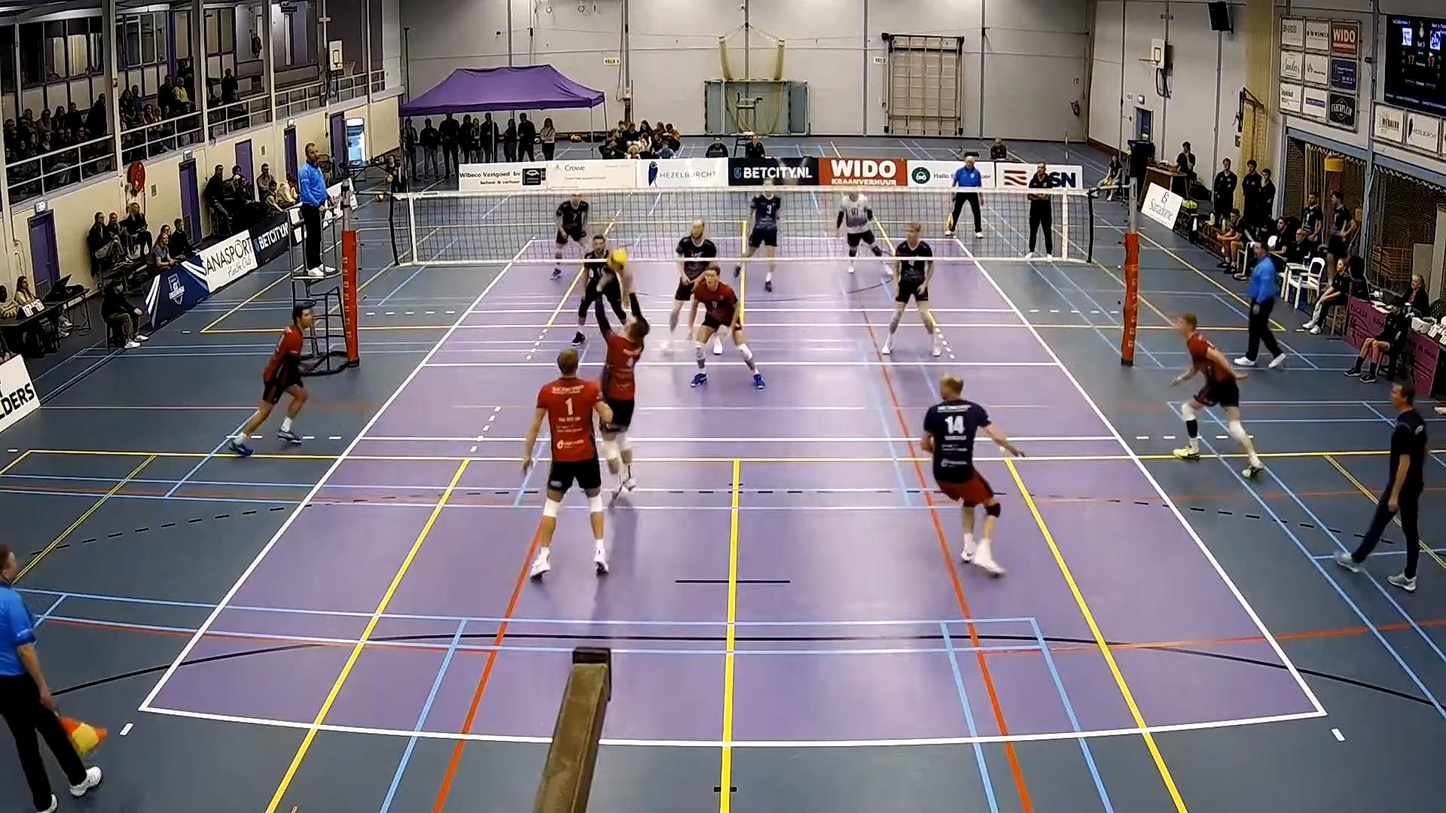Player: (523, 349, 613, 577), (921, 375, 1023, 575), (1173, 314, 1264, 478), (228, 304, 312, 456), (691, 264, 764, 388), (880, 222, 941, 356), (572, 236, 626, 346), (669, 220, 716, 340), (743, 180, 780, 291), (835, 190, 882, 273), (551, 193, 588, 279)
Set: (587, 285, 655, 492)
ball: (610, 250, 627, 264)
